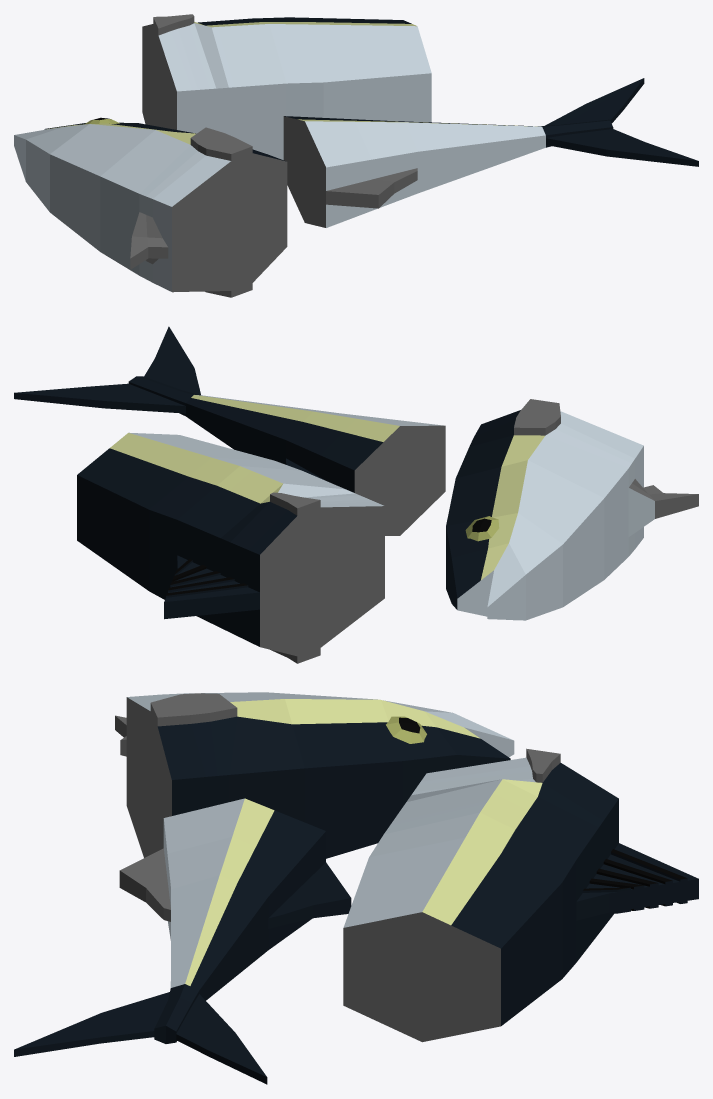
The model's file is Mackerel Sliced.fbx.
The picture shows the model from 3 angles, top to bottom: view 1: azimuth 30°, elevation 25°; view 2: azimuth 150°, elevation 25°; view 3: azimuth 270°, elevation 25°; orthographic projection. The views are drawn at different scales.
Parts seen in each view (by area): view 1: Mackerel Sliced; view 2: Mackerel Sliced; view 3: Mackerel Sliced.
Part boxes in pixels (left/top/right/bottom): Mackerel Sliced: left=14, top=14, right=698, bottom=297; Mackerel Sliced: left=14, top=326, right=698, bottom=663; Mackerel Sliced: left=14, top=692, right=698, bottom=1084.
Size of the model in its own units: 108 by 25.89 by 87.39.
